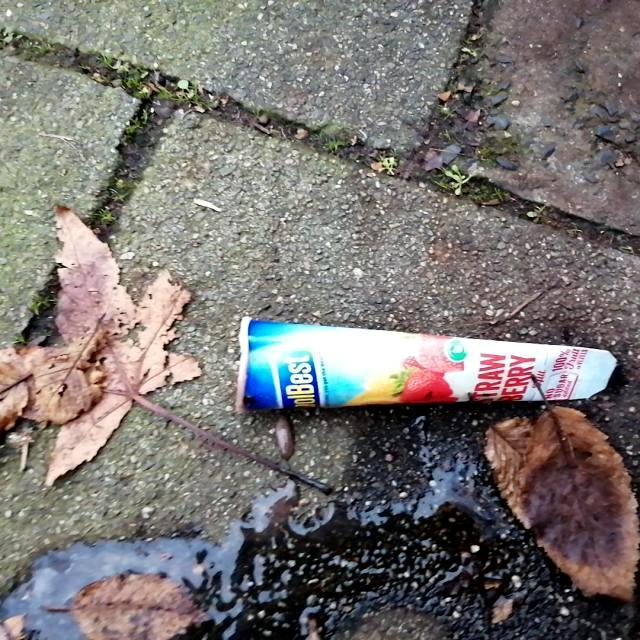Paper: (228, 312, 618, 414)
